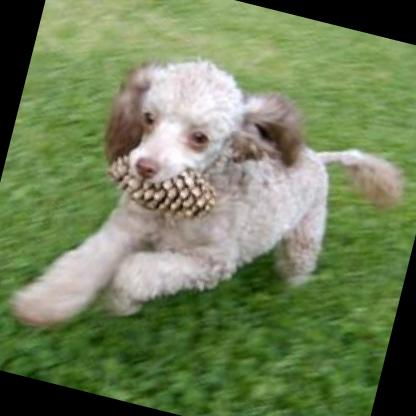toy_poodle: (3, 25, 416, 407)
